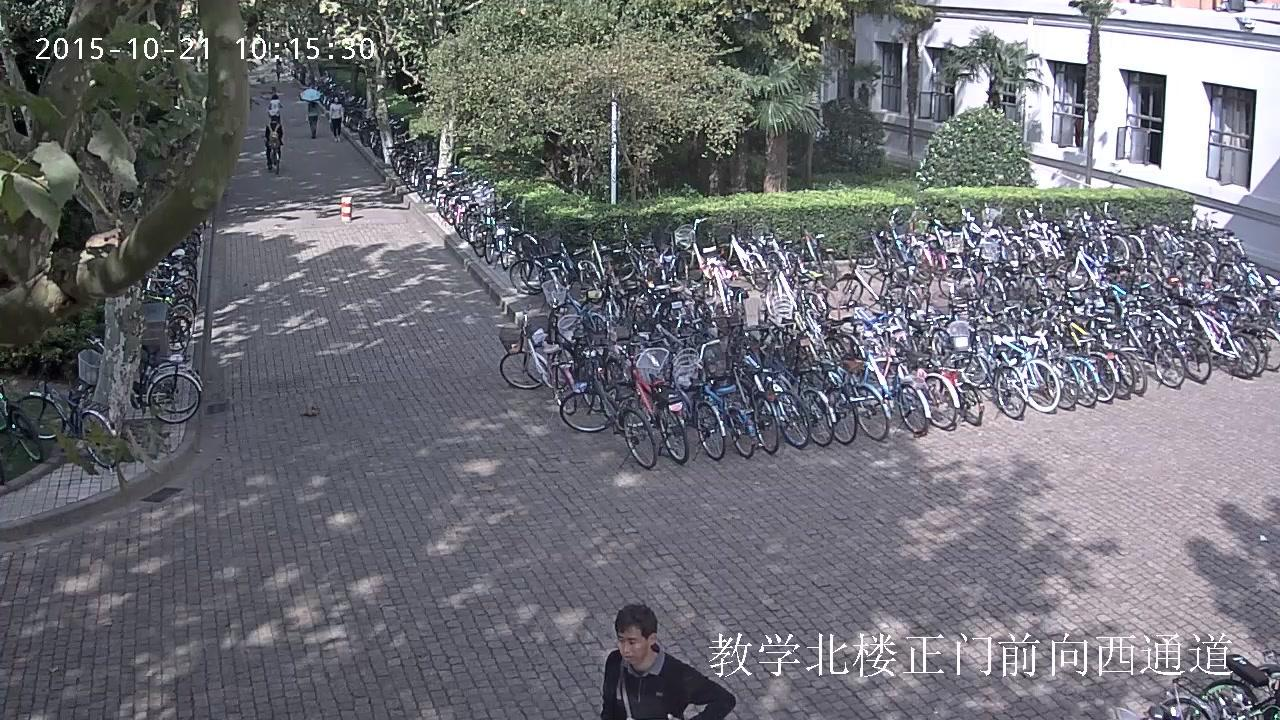face: (616, 627, 646, 663), (334, 96, 338, 102)
